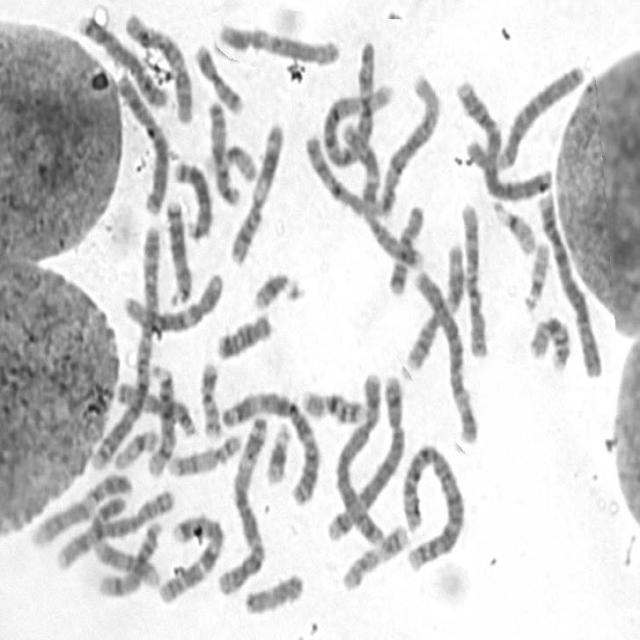A1: (305, 66, 440, 219), (320, 37, 383, 169)
A2: (89, 219, 163, 474), (400, 439, 468, 573)
A3: (216, 383, 322, 506), (217, 410, 270, 598)
B4: (534, 184, 606, 382), (452, 74, 554, 204)
B5: (325, 366, 406, 544), (328, 366, 385, 548)
C10: (122, 8, 196, 127), (457, 197, 489, 359)
C11: (225, 116, 286, 267), (402, 238, 467, 372)
C12: (120, 268, 226, 336), (215, 17, 342, 67)
C6: (462, 60, 588, 176), (410, 261, 482, 445)
C7: (337, 115, 426, 275), (154, 508, 226, 606)
C8: (52, 482, 175, 572), (76, 8, 170, 110)
C9: (26, 465, 134, 549), (86, 490, 161, 590)
D13: (170, 154, 216, 243), (162, 194, 194, 308)
D14: (96, 516, 164, 598), (143, 359, 180, 480)
D15: (204, 96, 242, 207), (242, 567, 306, 616)
E16: (298, 383, 369, 426), (525, 310, 572, 373)
E17: (339, 518, 412, 593), (164, 427, 244, 479)
E18: (386, 198, 426, 296), (213, 306, 274, 362)
F19: (111, 422, 161, 472), (221, 138, 258, 184)
F20: (191, 38, 246, 116), (196, 358, 224, 439)
G21: (249, 266, 306, 312), (262, 418, 293, 486)
G22: (488, 195, 538, 256), (520, 236, 552, 312)
X: (112, 68, 172, 218)
Y: (242, 567, 306, 616)
